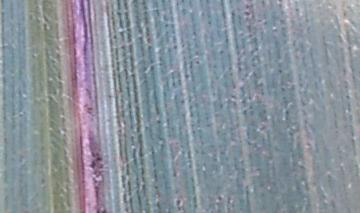tarspot: (171, 197, 183, 213), (87, 160, 97, 172), (215, 192, 223, 202), (94, 208, 107, 213), (193, 59, 201, 66), (154, 118, 162, 125), (293, 6, 300, 14), (242, 10, 251, 16), (95, 156, 102, 163), (217, 49, 224, 55), (111, 33, 117, 40), (277, 68, 283, 75), (86, 106, 93, 111), (275, 1, 284, 3)
